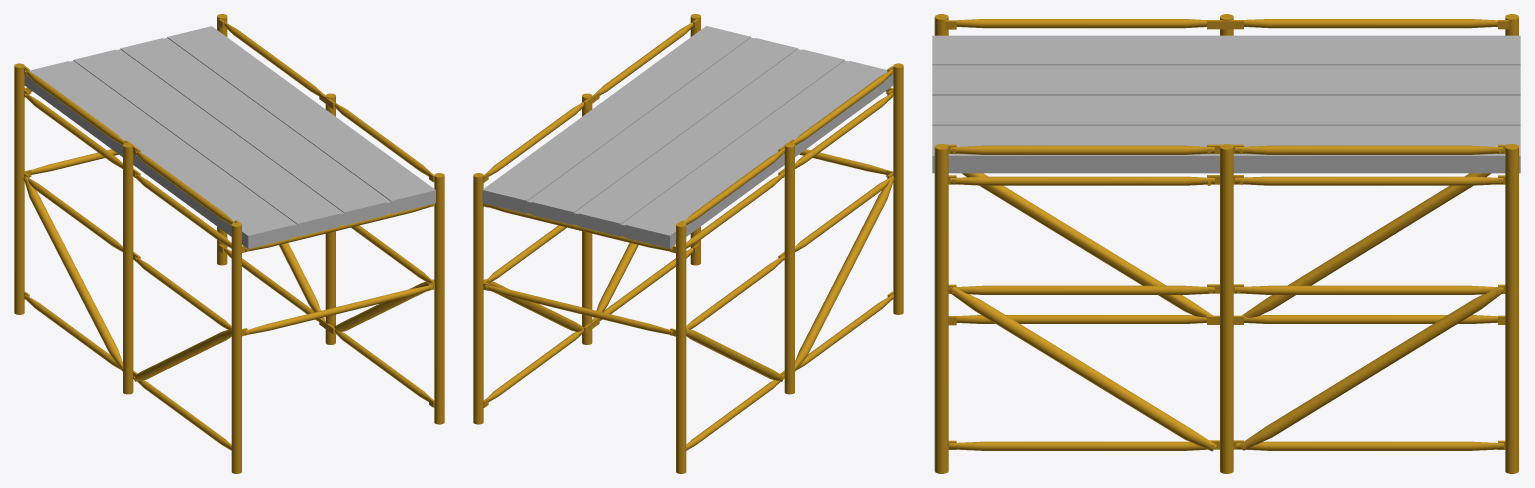
File: S_Scaffolding_Top.fbx
3 views of the same model, side by side, from view 1: azimuth 30°, elevation 25°; view 2: azimuth 150°, elevation 25°; view 3: azimuth 270°, elevation 25° (orthographic). The views are drawn at different scales.
Visible parts, largest first — view 1: Echafaud_Top; view 2: Echafaud_Top; view 3: Echafaud_Top.
Part boxes in pixels (box(x1,y1,x2,y2)): Echafaud_Top: box(14, 14, 444, 473); Echafaud_Top: box(473, 14, 903, 473); Echafaud_Top: box(932, 14, 1520, 473).
Size of the model in its own units: 169 by 189 by 310.
